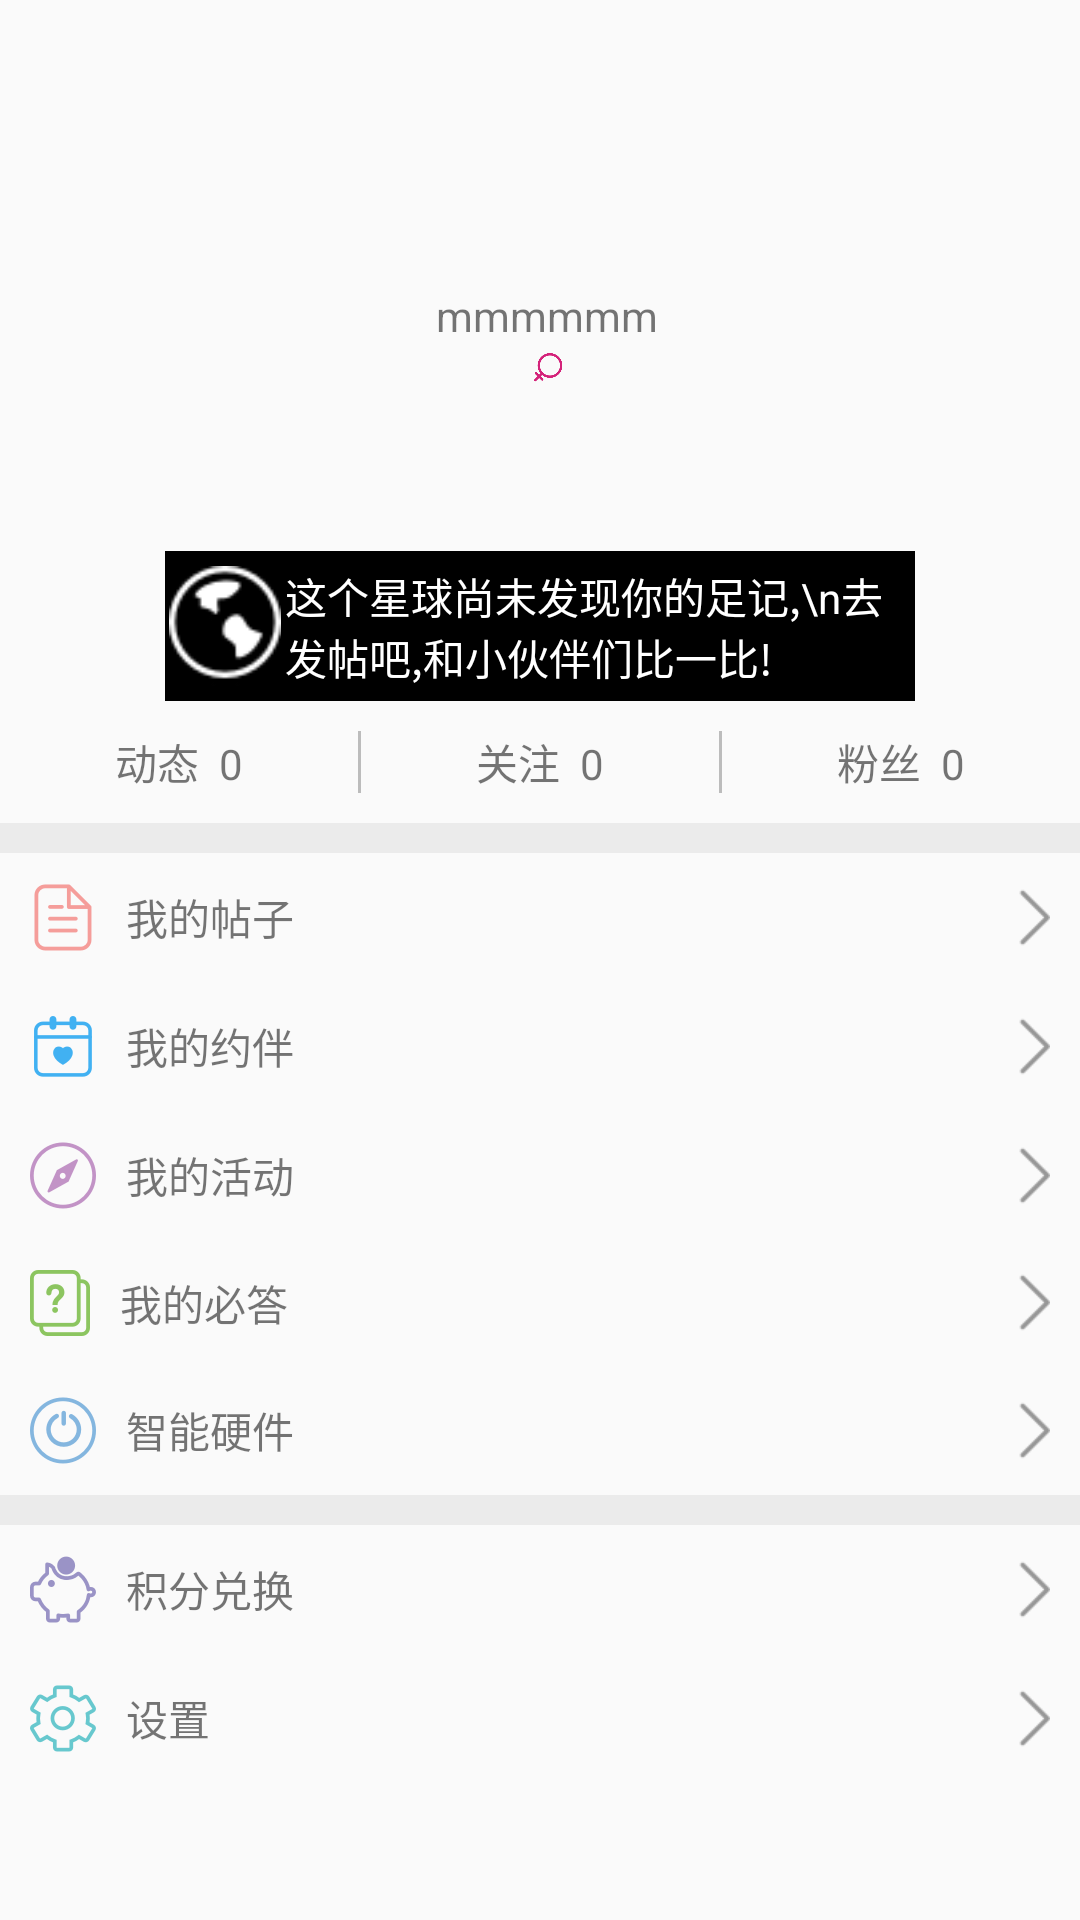

Point at icon controls on the screen. Image size 1080×1920, points as [x,y].
girl: [548,367]
profile feed: [63,917]
profile hardware: [63,1430]
profile must answer: [60,1303]
profile points redeem: [63,1589]
profile setting: [63,1718]
right arrow: [1035,917], [1035,1046], [1035,1175], [1035,1302], [1035,1430], [1035,1589], [1035,1718]
